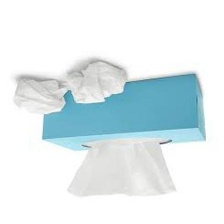book: (37, 69, 211, 155)
tissue: (61, 135, 181, 204), (59, 56, 132, 108), (8, 71, 71, 120)
